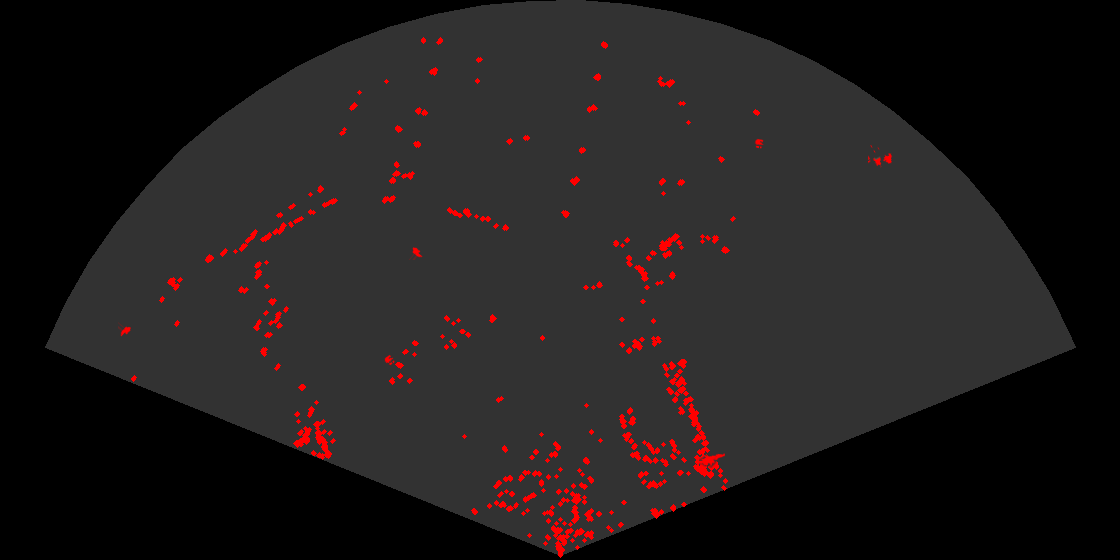AUV: (408, 246, 424, 260), (118, 322, 132, 338)
ball: (383, 353, 396, 367), (753, 137, 765, 150)
cage: (868, 145, 894, 169)
frogman: (699, 452, 725, 468)
